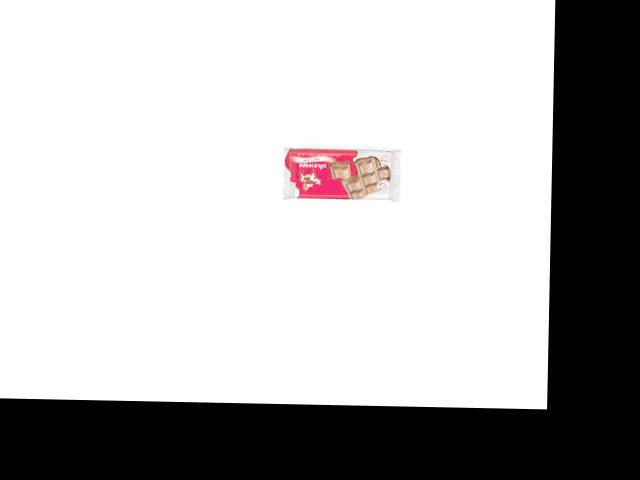chocolate: (281, 147, 404, 202)
